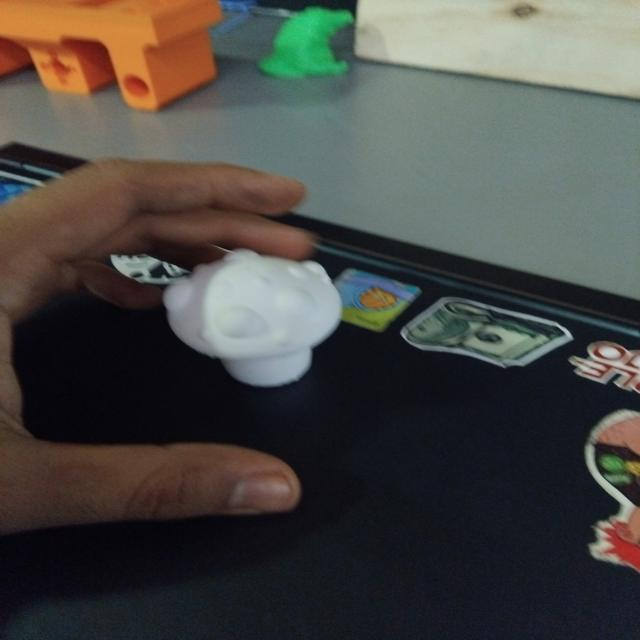Hongo: (146, 244, 355, 392)
